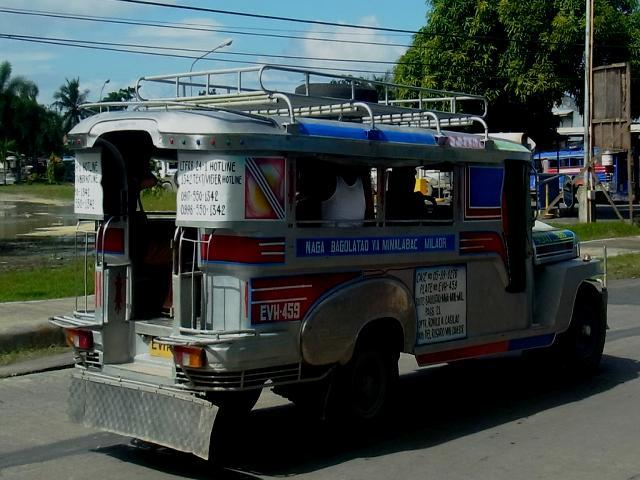jeepney: (65, 79, 617, 430)
